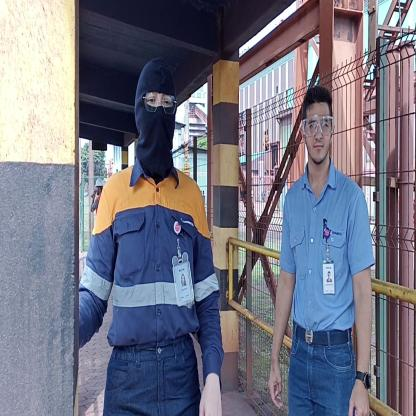Balaclava: (134, 53, 182, 181)
Operacional: (80, 167, 222, 337)
